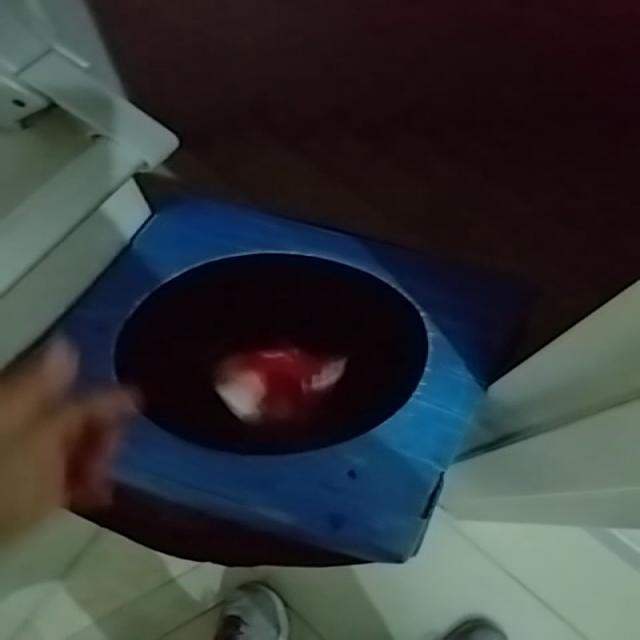metal: (215, 349, 323, 424), (324, 358, 346, 390)
